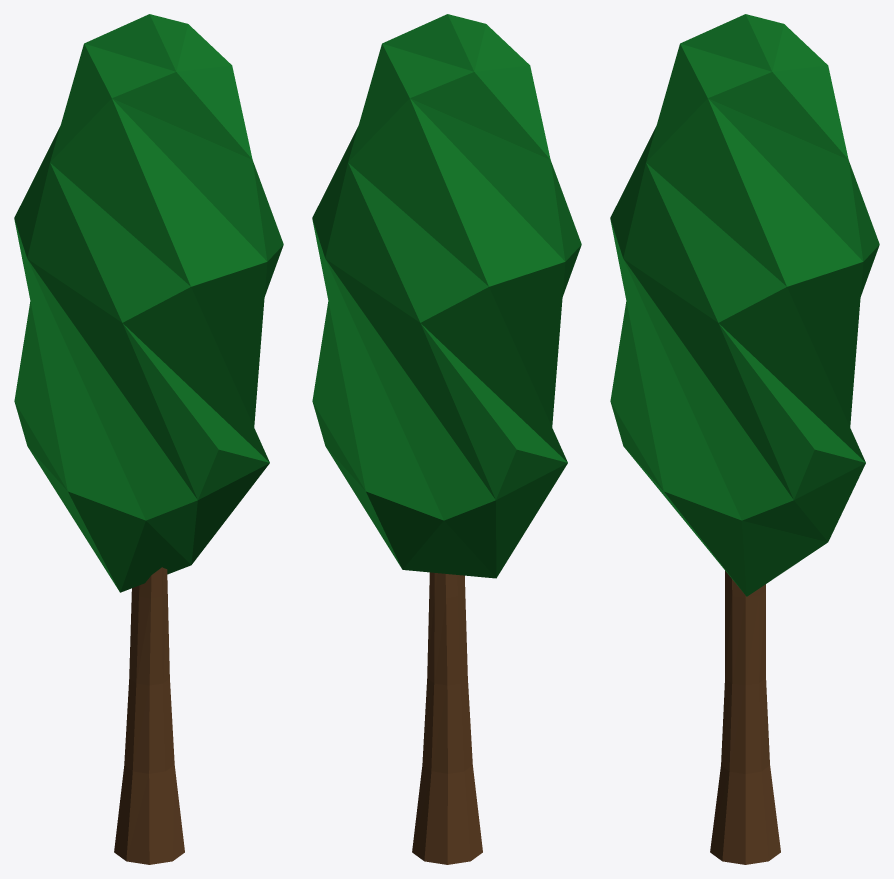
The model's file is tree1.FBX.
3 views of the same model, side by side, from view 1: azimuth 30°, elevation 25°; view 2: azimuth 150°, elevation 25°; view 3: azimuth 270°, elevation 25° (orthographic).
Visible parts, largest first — view 1: GeoSphere001; view 2: GeoSphere001; view 3: GeoSphere001.
Boxes of the visible parts, x1,y1,x2,y2 form: GeoSphere001: (14,14,283,864); GeoSphere001: (312,14,581,864); GeoSphere001: (610,14,879,864).
Size of the model in its own units: 35.76 by 119 by 34.68.
